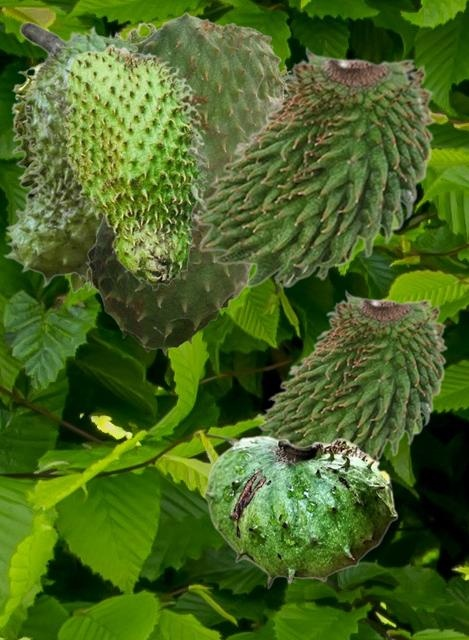guyabano: (85, 11, 290, 354), (195, 46, 435, 287), (11, 21, 156, 293), (60, 43, 208, 290), (2, 21, 136, 287), (257, 289, 447, 459), (203, 435, 397, 588)
